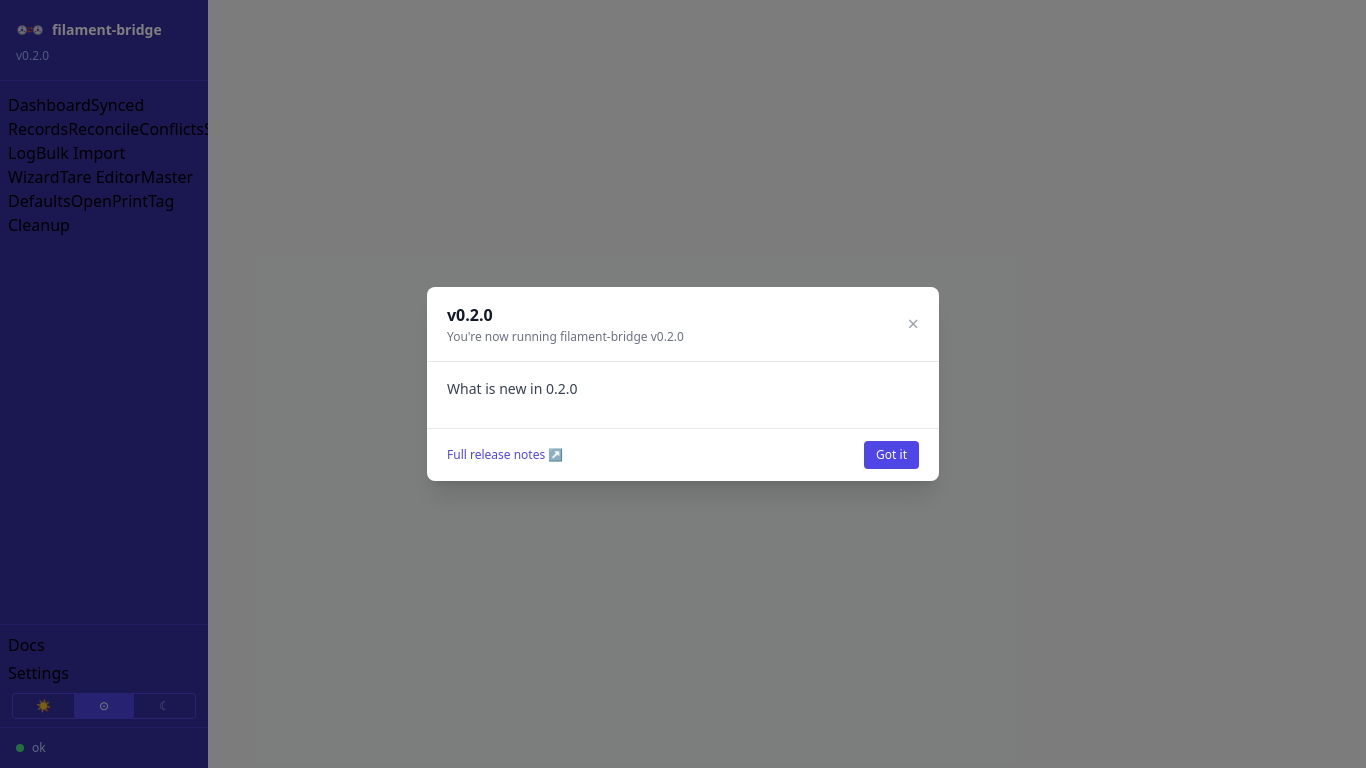
Test: VersionBadge — post-upgrade modal › dismiss writes current version to fb_last_running_version
Expected: the text "You're now running filament-bridge v0.2.0" is shown, [447,329,684,345]
# Click "Got it"
Click the button "Got it" at (892, 455), box [864,441,919,469]
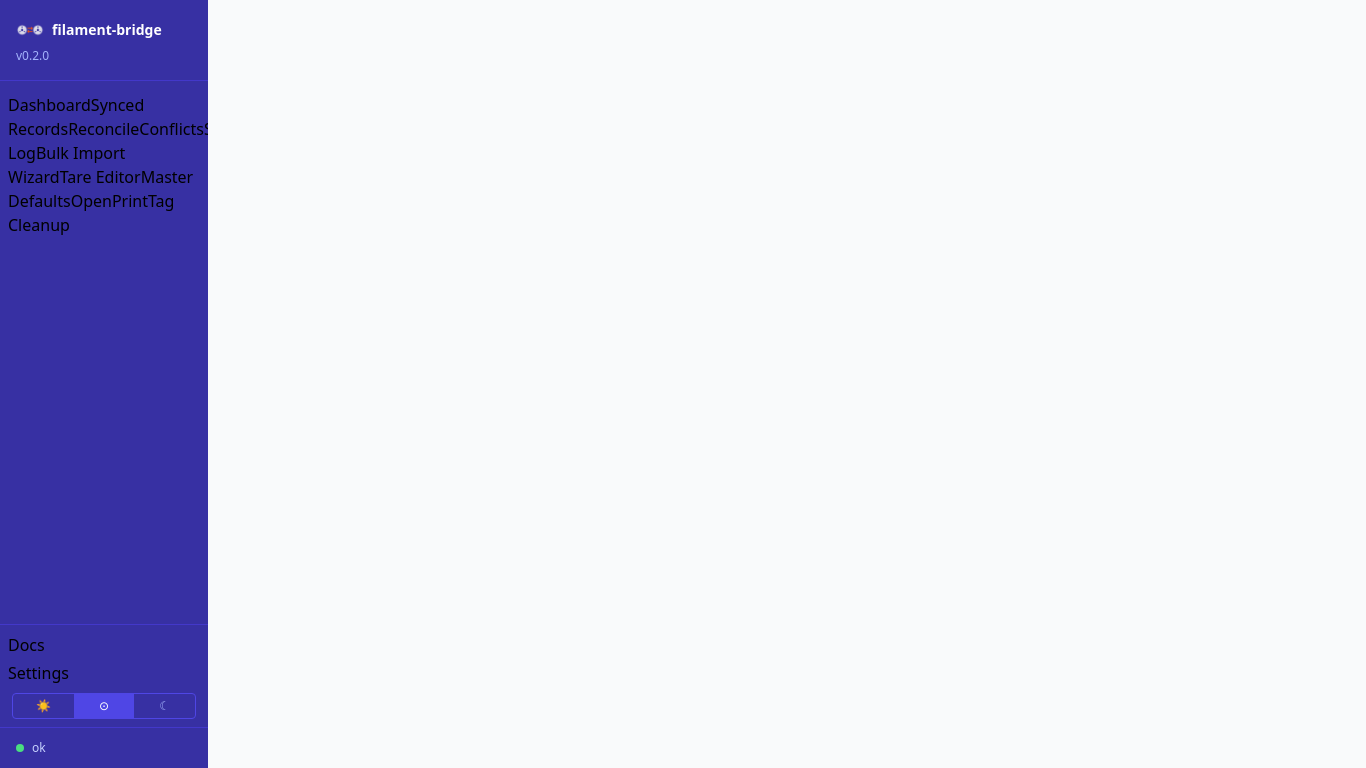
Expected: the text "You're now running" is gone
